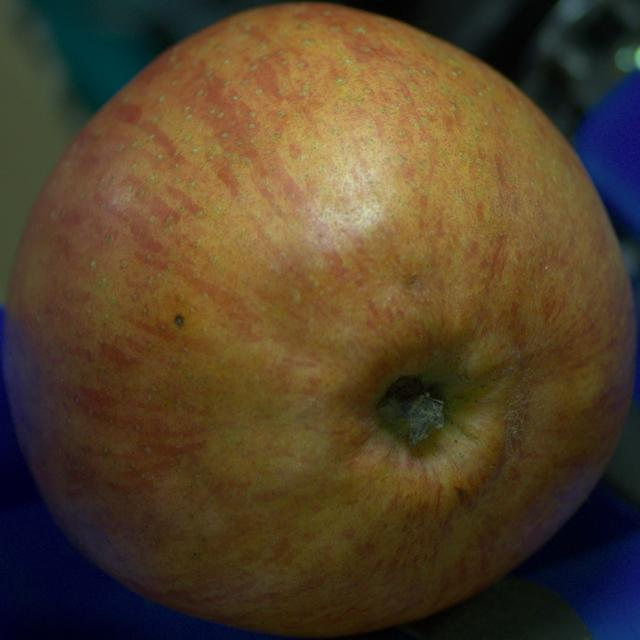apple: (4, 4, 636, 636)
pest: (174, 314, 183, 327)
